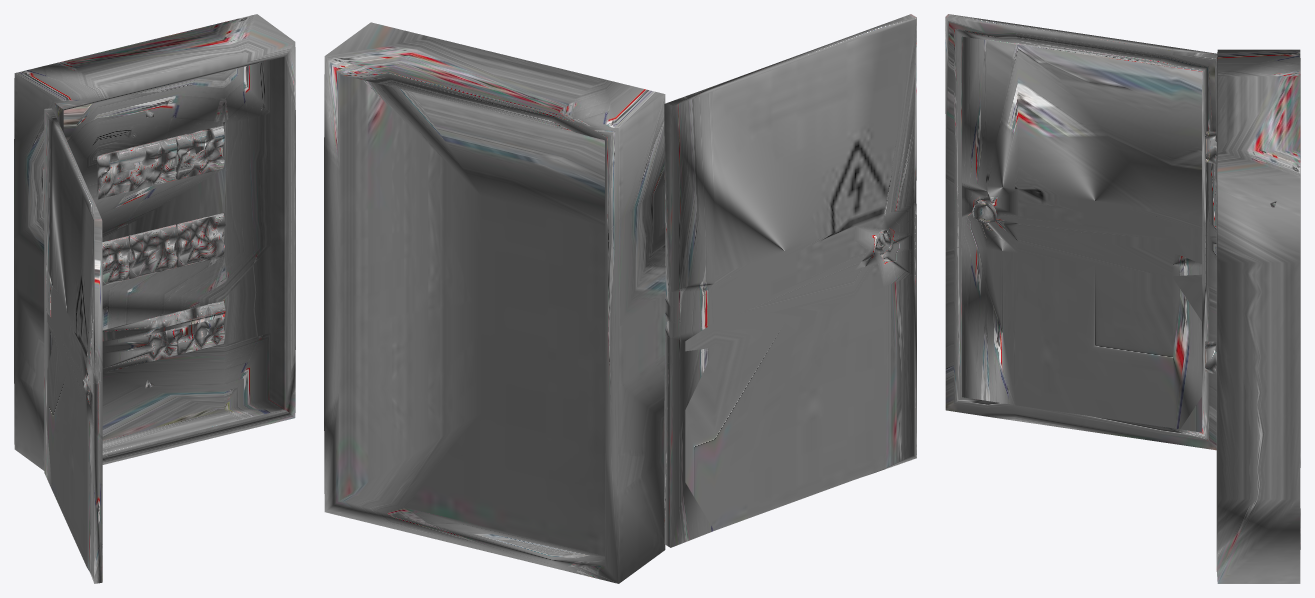
Rendered from power-box.4d14cf1b.glb.
3 views of the same model, side by side, from view 1: azimuth 30°, elevation 25°; view 2: azimuth 150°, elevation 25°; view 3: azimuth 270°, elevation 25° (orthographic). The views are drawn at different scales.
Parts seen in each view (by area): view 1: model; view 2: model; view 3: model.
Boxes of the visible parts, <box> form: model: <box>14,14,295,583</box>; model: <box>324,14,916,583</box>; model: <box>945,14,1300,583</box>.
Size of the model in its own units: 0.4613 by 0.5031 by 0.399.
1 material, 1 textured.
